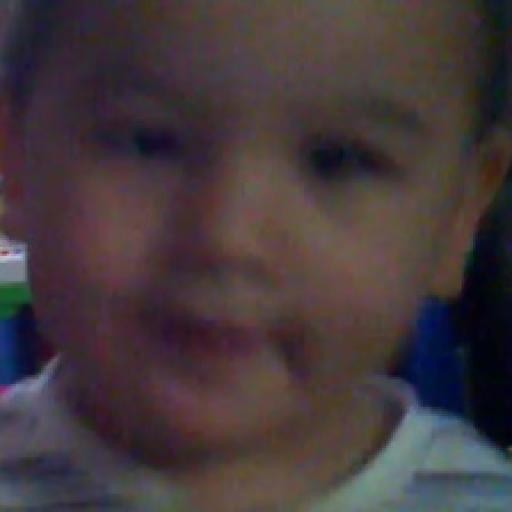Autism: (29, 0, 512, 449)
